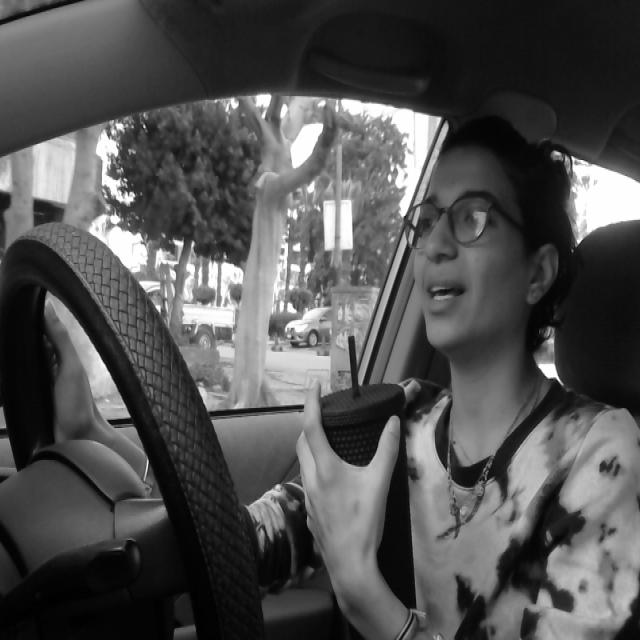drinking: (304, 315, 421, 640)
